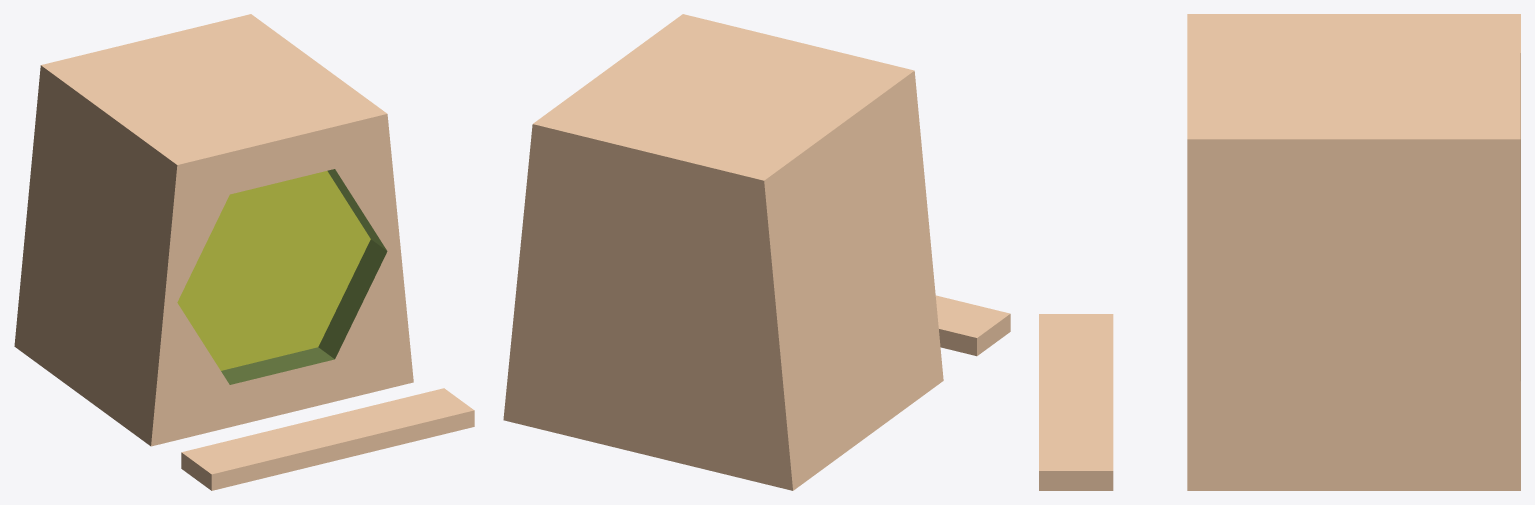
The model's file is computer6.gltf.
3 renders of one model, left to right at view 1: azimuth 30°, elevation 25°; view 2: azimuth 150°, elevation 25°; view 3: azimuth 270°, elevation 25°, orthographic. The views are drawn at different scales.
Visible parts, largest first — view 1: Mesh1 Model, Mesh2 Model; view 2: Mesh1 Model, Mesh2 Model; view 3: Mesh1 Model, Mesh2 Model.
Boxes of the visible parts, x1,y1,x2,y2 form: Mesh1 Model: [14, 14, 413, 446]; Mesh2 Model: [181, 388, 474, 490]; Mesh1 Model: [503, 14, 943, 490]; Mesh2 Model: [935, 295, 1010, 356]; Mesh1 Model: [1187, 14, 1520, 490]; Mesh2 Model: [1039, 314, 1113, 490].
Size of the model in its own units: 0.5 by 0.5 by 0.65.
